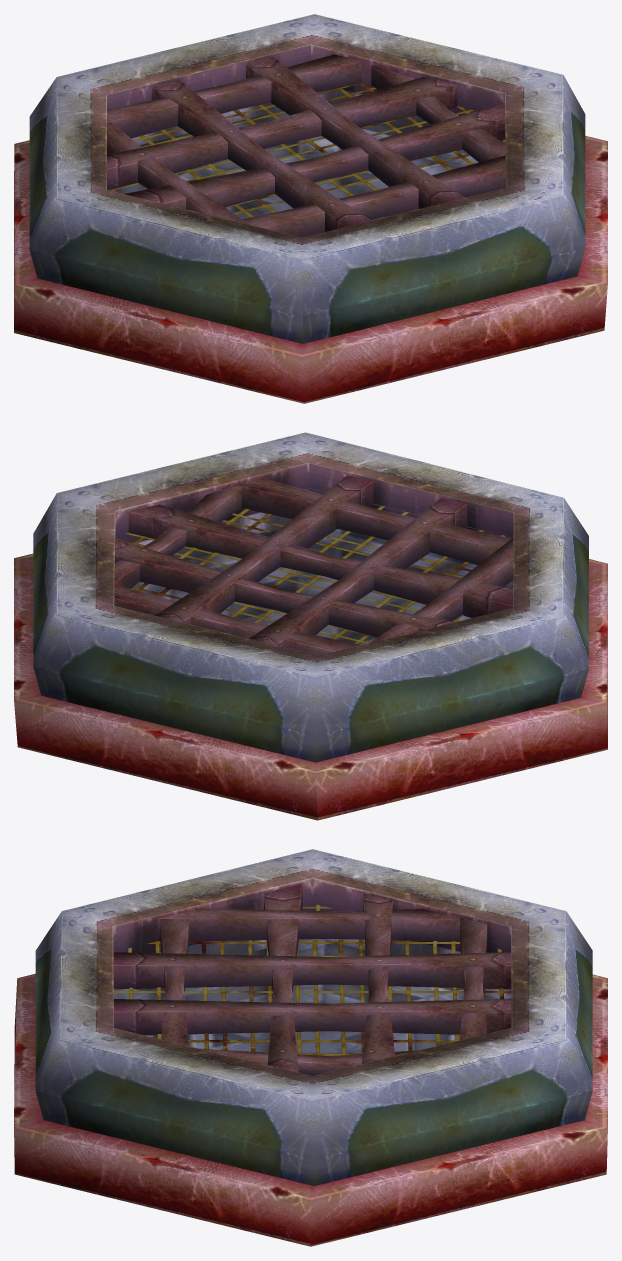
Rendered from obj_madaprchimney01.glb.
3 views of the same model, one above another, from view 1: azimuth 30°, elevation 25°; view 2: azimuth 150°, elevation 25°; view 3: azimuth 270°, elevation 25° (orthographic).
Visible parts, largest first — view 1: part_0; view 2: part_0; view 3: part_0.
Boxes of the visible parts, <box> form: part_0: <box>14,14,607,403</box>; part_0: <box>14,432,607,820</box>; part_0: <box>14,849,607,1246</box>.
Bounding box in the file's own units: 5.46 × 1.08 × 4.64.
1 material, 1 textured.
